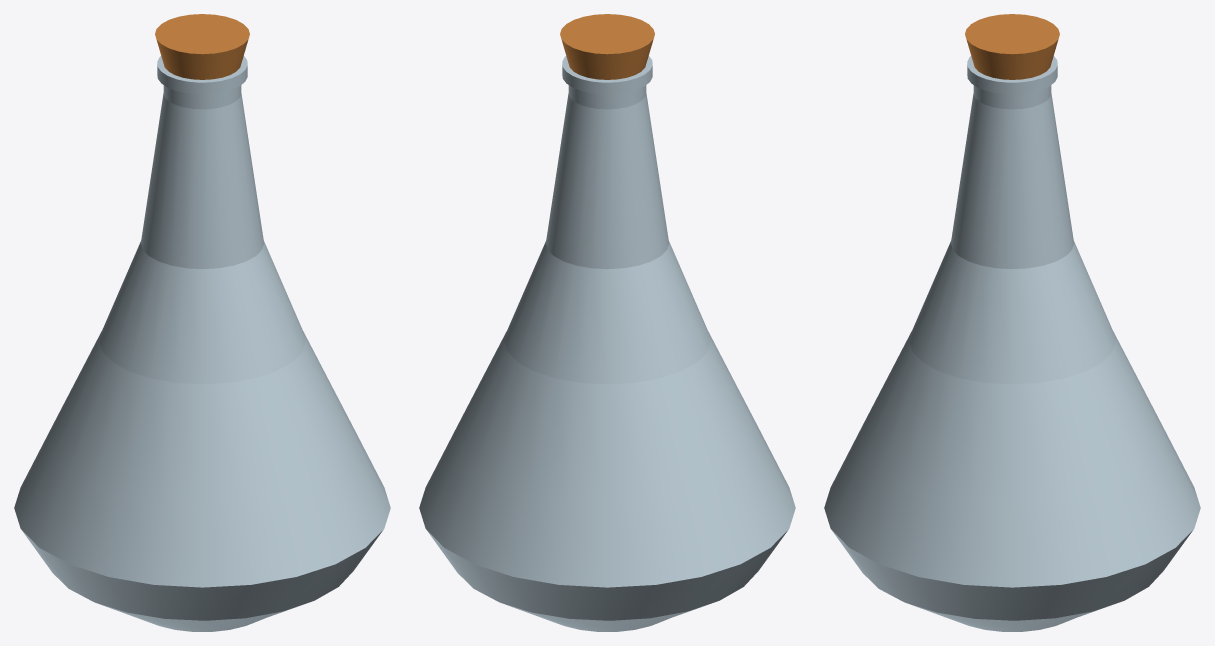
File: potion.obj
The picture shows the model from 3 angles, left to right: view 1: azimuth 30°, elevation 25°; view 2: azimuth 150°, elevation 25°; view 3: azimuth 270°, elevation 25°; orthographic projection.
Parts seen in each view (by area): view 1: Mesh1 Model; view 2: Mesh1 Model; view 3: Mesh1 Model.
Part boxes in pixels (x1,y1,x2,y2): Mesh1 Model: (14,14,390,631); Mesh1 Model: (419,14,795,631); Mesh1 Model: (824,14,1200,631).
Bounding box in the file's own units: 0.58 × 0.965 × 0.58.
